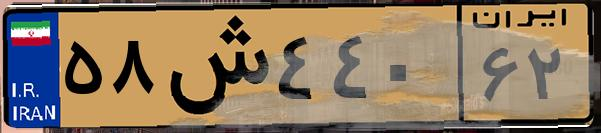0: (385, 28, 445, 110)
2: (525, 38, 570, 115)
4: (270, 28, 330, 110), (330, 28, 385, 110)
5: (57, 26, 110, 100)
6: (475, 38, 525, 113)
8: (110, 28, 158, 98)
ش: (158, 12, 270, 120)
